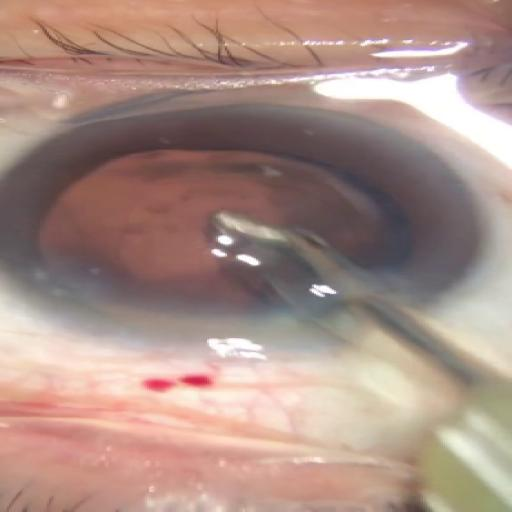cornea: (0, 99, 494, 369)
pupil: (41, 144, 397, 332)
